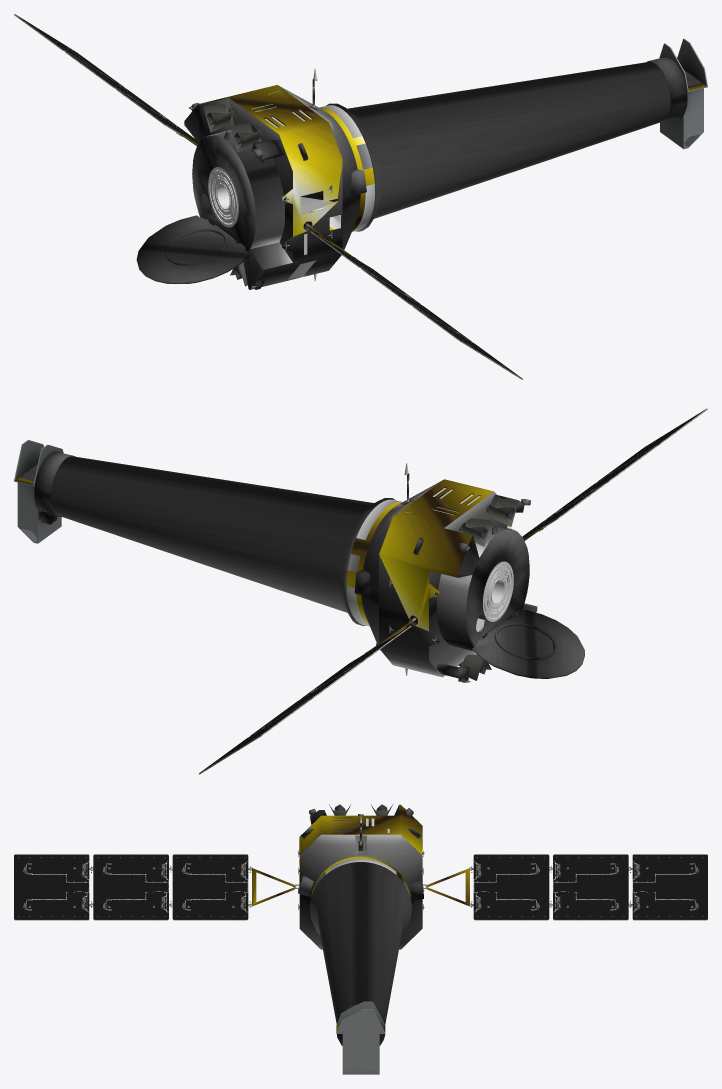
Rendered from chandra.glb.
3 views of the same model, one above another, from view 1: azimuth 30°, elevation 25°; view 2: azimuth 150°, elevation 25°; view 3: azimuth 270°, elevation 25° (orthographic). The views are drawn at different scales.
Parts seen in each view (by area): view 1: foil_silver, shiny_panel, foil_gold, AO_HRMA; view 2: foil_silver, foil_gold, shiny_panel, AO_HRMA; view 3: shiny_panel, foil_silver, foil_gold.
Part boxes in pixels (left/top/right/bottom): foil_silver: left=136, top=57, right=687, bottom=289; shiny_panel: left=14, top=14, right=707, bottom=379; foil_gold: left=180, top=83, right=706, bottom=256; AO_HRMA: left=208, top=167, right=340, bottom=227; foil_silver: left=34, top=451, right=584, bottom=682; foil_gold: left=15, top=478, right=541, bottom=665; shiny_panel: left=14, top=408, right=707, bottom=774; AO_HRMA: left=478, top=561, right=513, bottom=621; shiny_panel: left=14, top=804, right=707, bottom=1074; foil_silver: left=298, top=805, right=424, bottom=1045; foil_gold: left=252, top=804, right=469, bottom=1032.
Bounding box in the file's own units: 13.78 × 5.12 × 19.51.
4 materials, 3 textured.
